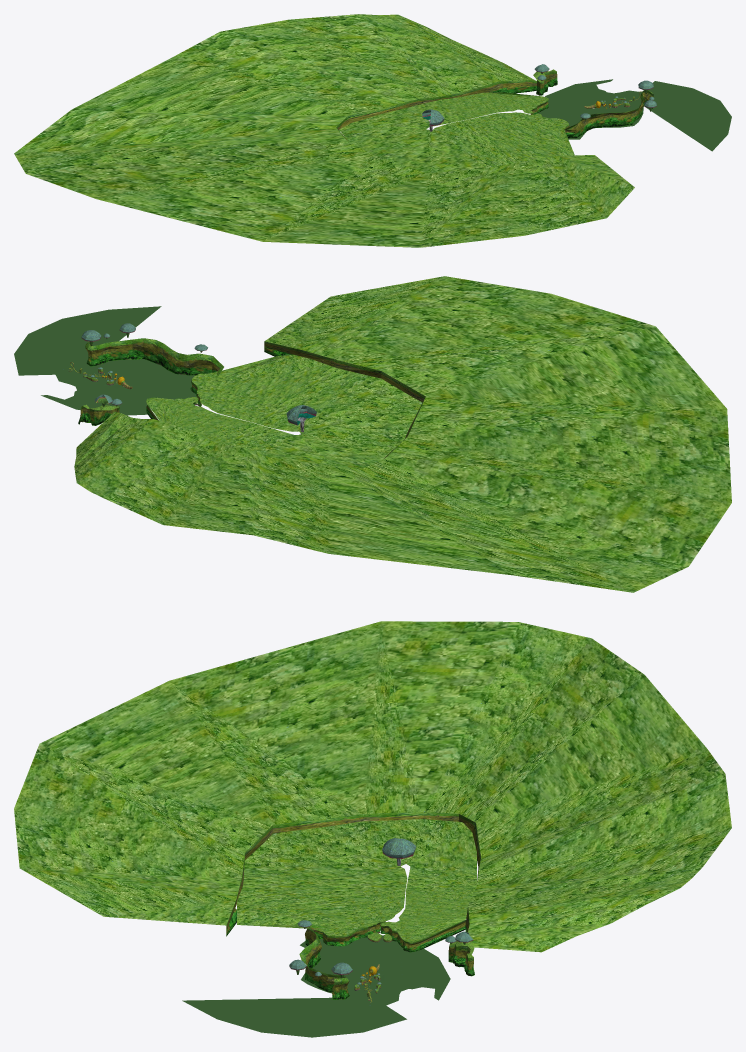
Rendered from Lost Jungle 10.obj.
The picture shows the model from 3 angles, top to bottom: view 1: azimuth 30°, elevation 25°; view 2: azimuth 150°, elevation 25°; view 3: azimuth 270°, elevation 25°; orthographic projection. The views are drawn at different scales.
Parts seen in each view (by area): view 1: Object_2.001; view 2: Object_2.001; view 3: Object_2.001.
Boxes of the visible parts, bbox=[...] form: Object_2.001: bbox=[14, 14, 731, 247]; Object_2.001: bbox=[14, 276, 731, 592]; Object_2.001: bbox=[14, 621, 731, 1037].
Size of the model in its own units: 84864 by 5523 by 65885.
45 materials, 44 textured.
